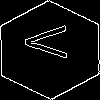V: (25, 25, 78, 59)
